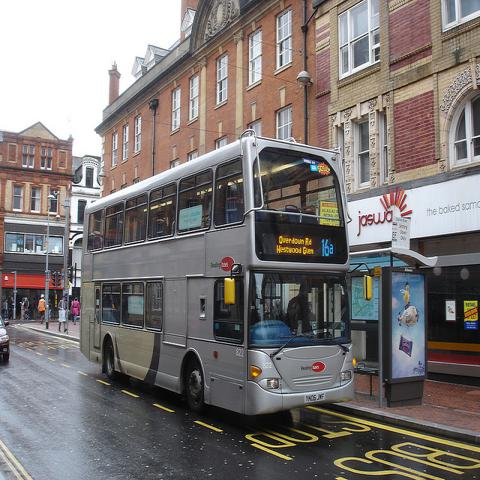bus: (77, 131, 354, 421)
car: (0, 311, 10, 361)
